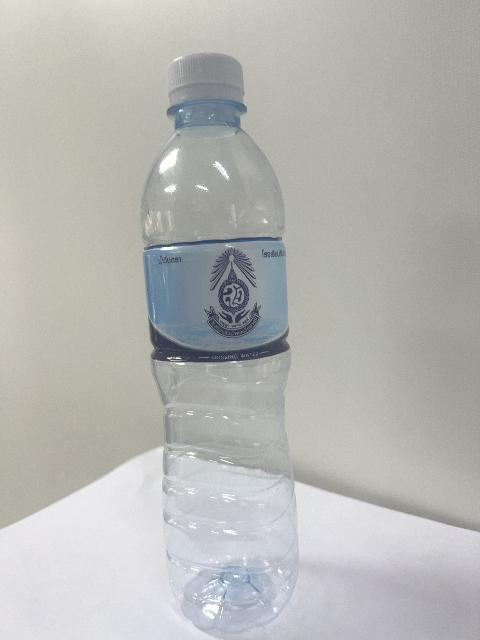bottle: (142, 54, 298, 633)
